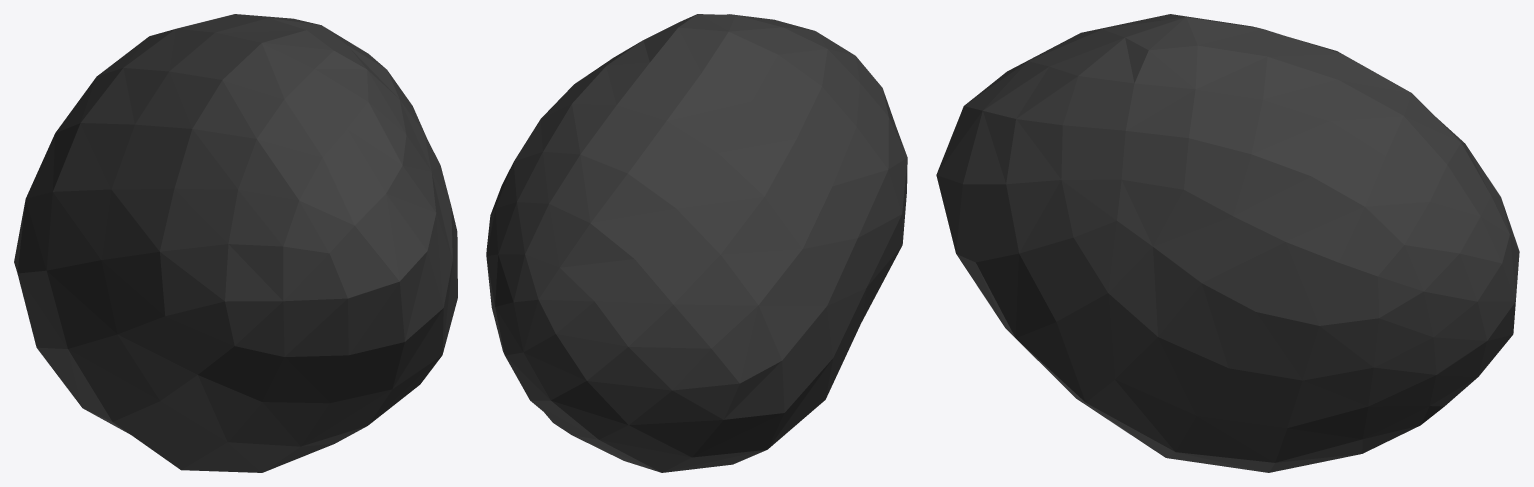
The model's file is Dorsal_sesamoid_5.glb.
3 renders of one model, left to right at view 1: azimuth 30°, elevation 25°; view 2: azimuth 150°, elevation 25°; view 3: azimuth 270°, elevation 25°, orthographic. The views are drawn at different scales.
Visible parts, largest first — view 1: Dorsal_sesamoid_5; view 2: Dorsal_sesamoid_5; view 3: Dorsal_sesamoid_5.
Boxes of the visible parts, box(x1,y1,x2,y2) form: Dorsal_sesamoid_5: box(14, 14, 457, 472); Dorsal_sesamoid_5: box(486, 14, 907, 472); Dorsal_sesamoid_5: box(936, 14, 1519, 472).
Bounding box in the file's own units: 0.0278 × 0.0333 × 0.04.
Materials: 1 (1 with a texture image).
